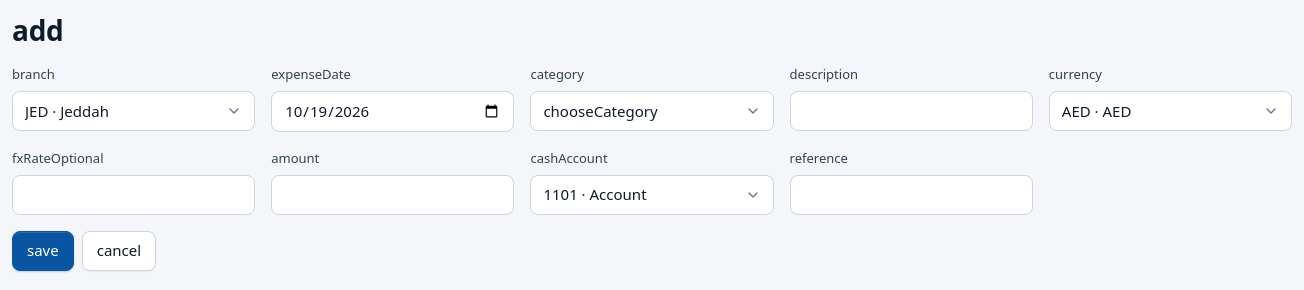
it: expense and supplier payment (functional review C4, C9) › starts in the branch's currency, date and only cash account, and follows the branch
Expected: the dropdown labelled "currency" shows "AED · AED", x1=1049 y1=91 x2=1292 y2=131
Expected: the date field labelled "expenseDate" holds "2026-10-19", x1=271 y1=91 x2=514 y2=132
Select "JED · Jeddah" in the dropdown labelled "branch": (134, 111) x1=12 y1=91 x2=255 y2=131
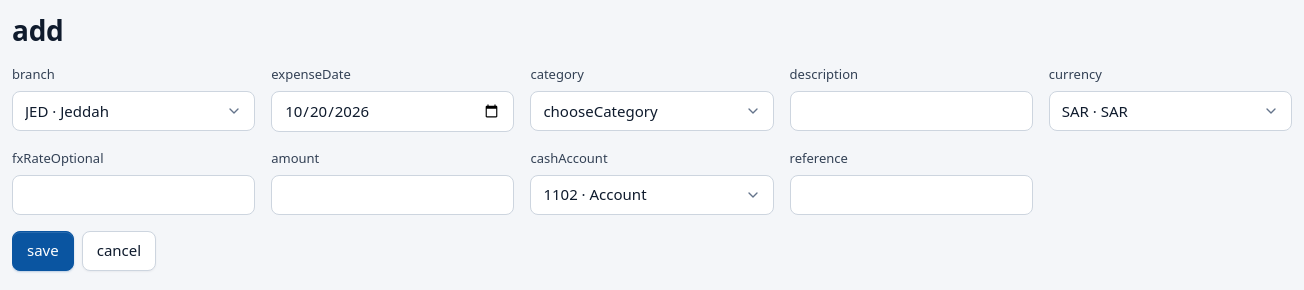
Now the dropdown labelled "currency" shows "SAR · SAR", box x1=1049 y1=91 x2=1292 y2=131
Now the date field labelled "expenseDate" holds "2026-10-20", box x1=271 y1=91 x2=514 y2=132
Now the dropdown labelled "cashAccount" shows "1102 · Account", box x1=530 y1=175 x2=774 y2=215
